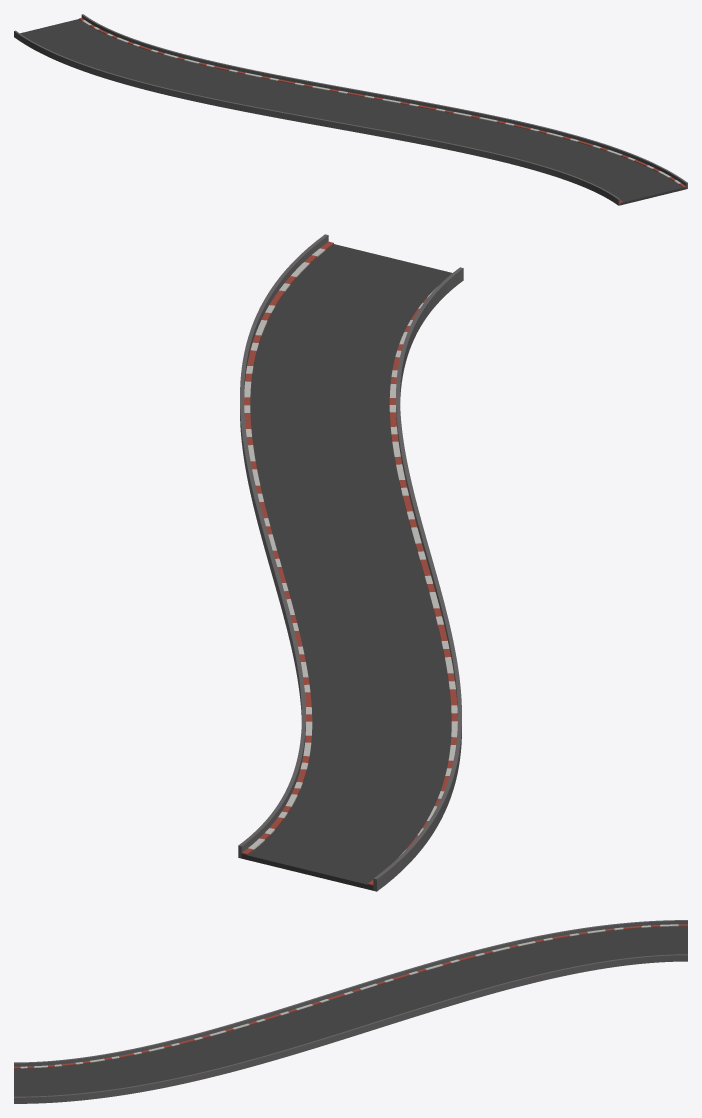
The model's file is tp-chicane-a.glb.
3 renders of one model, top to bottom at view 1: azimuth 30°, elevation 25°; view 2: azimuth 150°, elevation 25°; view 3: azimuth 270°, elevation 25°, orthographic. The views are drawn at different scales.
Visible parts, largest first — view 1: tp-chicane-a; view 2: tp-chicane-a; view 3: tp-chicane-a.
Boxes of the visible parts, left/top/right/bottom form: tp-chicane-a: left=14, top=14, right=687, bottom=205; tp-chicane-a: left=238, top=234, right=463, bottom=891; tp-chicane-a: left=14, top=920, right=687, bottom=1103.
Size of what is drawn, in the model's own units: 77.85 by 1.3 by 125.
1 material, 1 textured.
